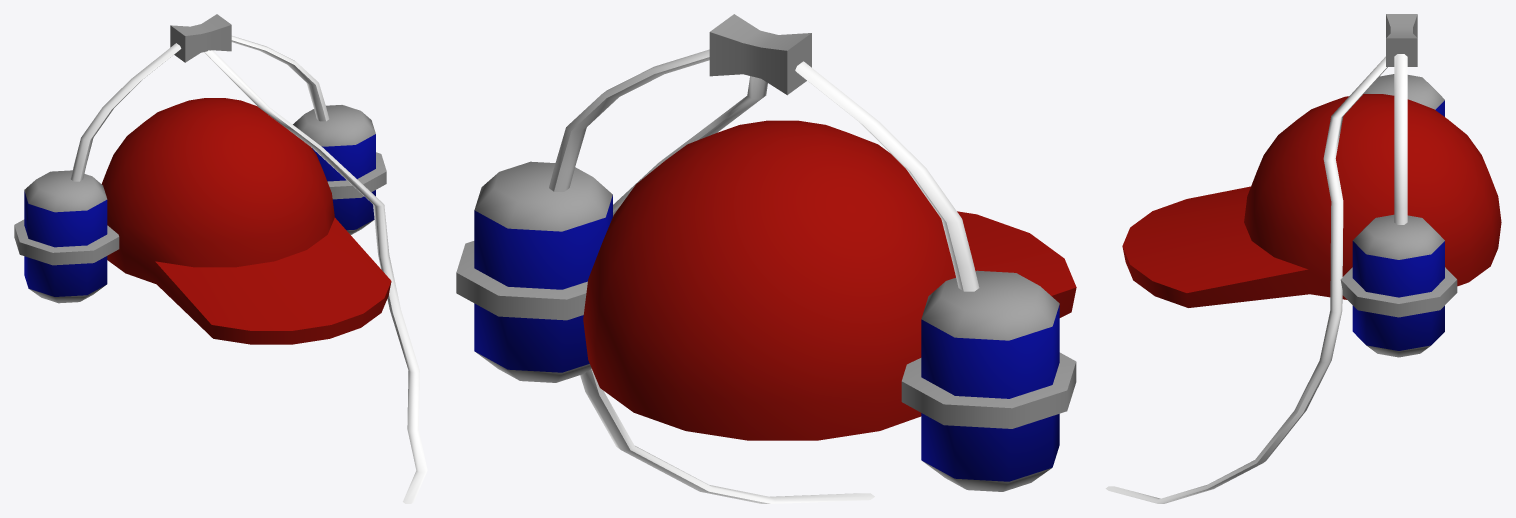
Rendered from ChapeuDeDrinks.fbx.
The picture shows the model from 3 angles, left to right: view 1: azimuth 30°, elevation 25°; view 2: azimuth 150°, elevation 25°; view 3: azimuth 270°, elevation 25°; orthographic projection. The views are drawn at different scales.
Parts seen in each view (by area): view 1: ChapeuDeDrinks; view 2: ChapeuDeDrinks; view 3: ChapeuDeDrinks.
Boxes of the visible parts, x1=… form: ChapeuDeDrinks: x1=14, y1=14, x2=427, y2=503; ChapeuDeDrinks: x1=456, y1=14, x2=1076, y2=503; ChapeuDeDrinks: x1=1105, y1=14, x2=1501, y2=503.
Size of the model in its own units: 364 by 380 by 322.
